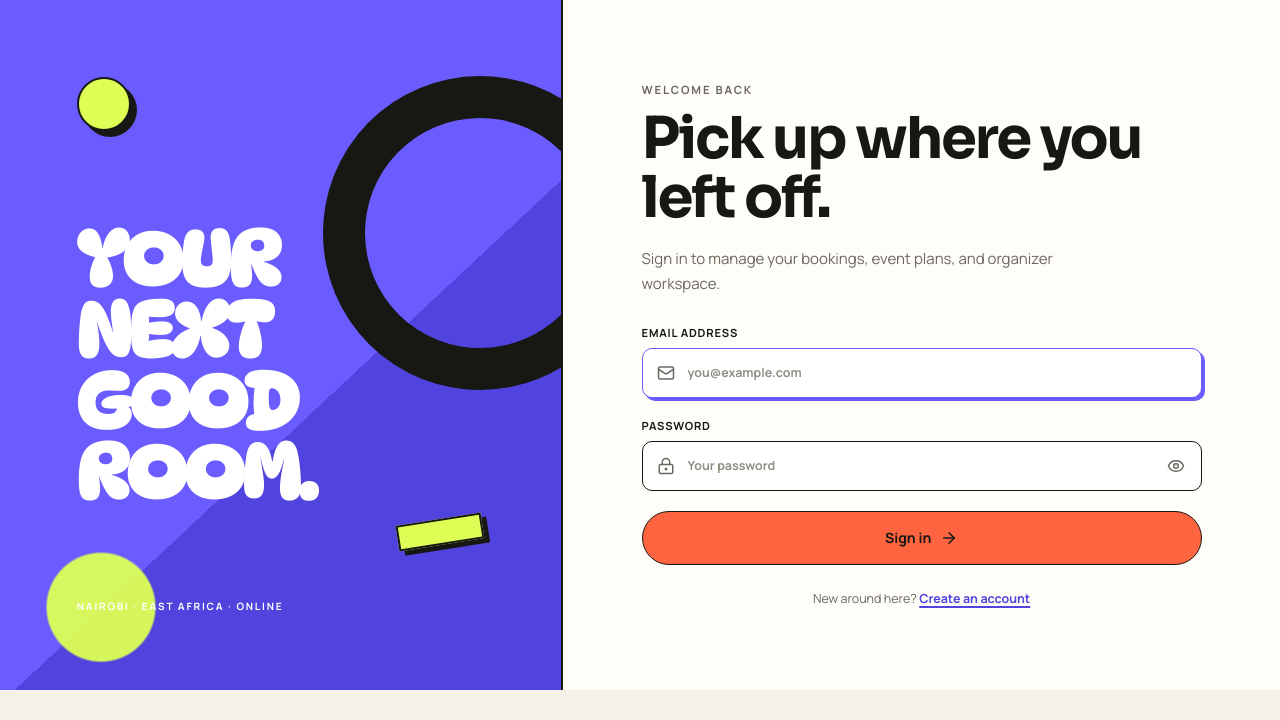
Test case: AuthForm › surfaces an authentication failure and lets the user reveal their password
The width and height of the screenshot is (1280, 720).
Type "amina@example.com" into the field labelled "Email address" at (922, 373), box [642,348,1202,398]
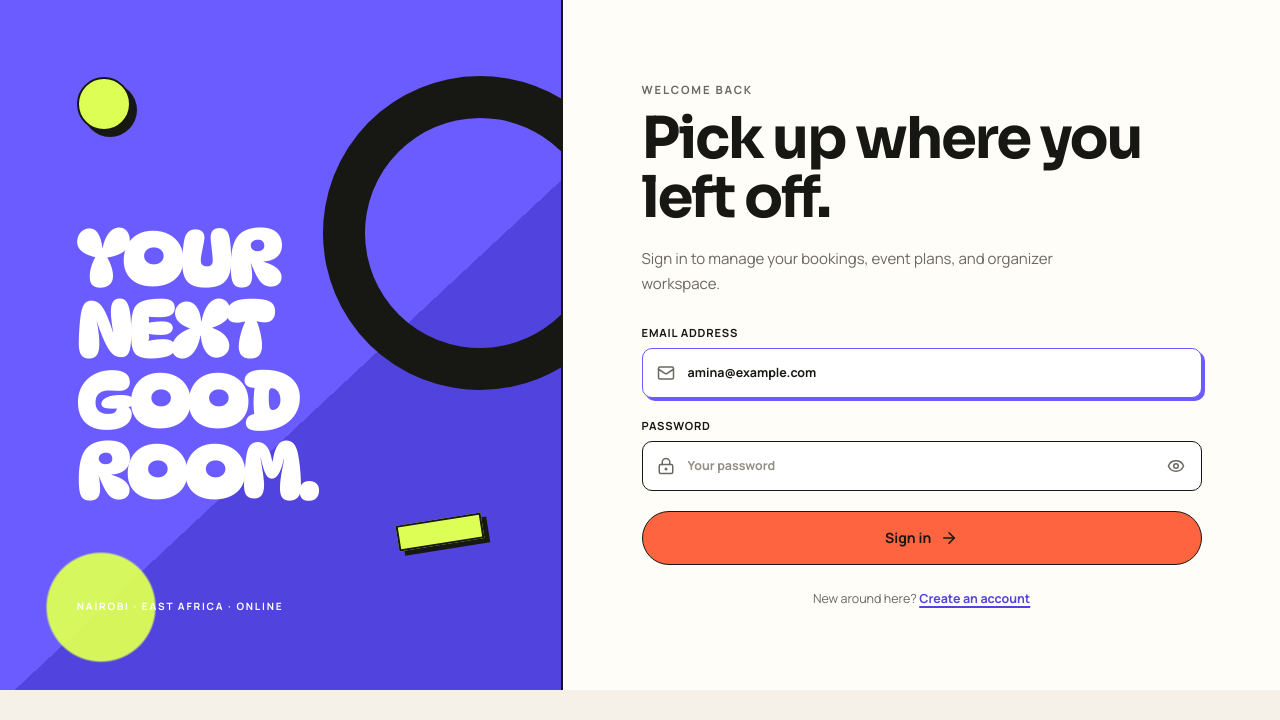
Type "StrongPass123" into the password field labelled "Password" at (922, 466), box [642,441,1202,491]
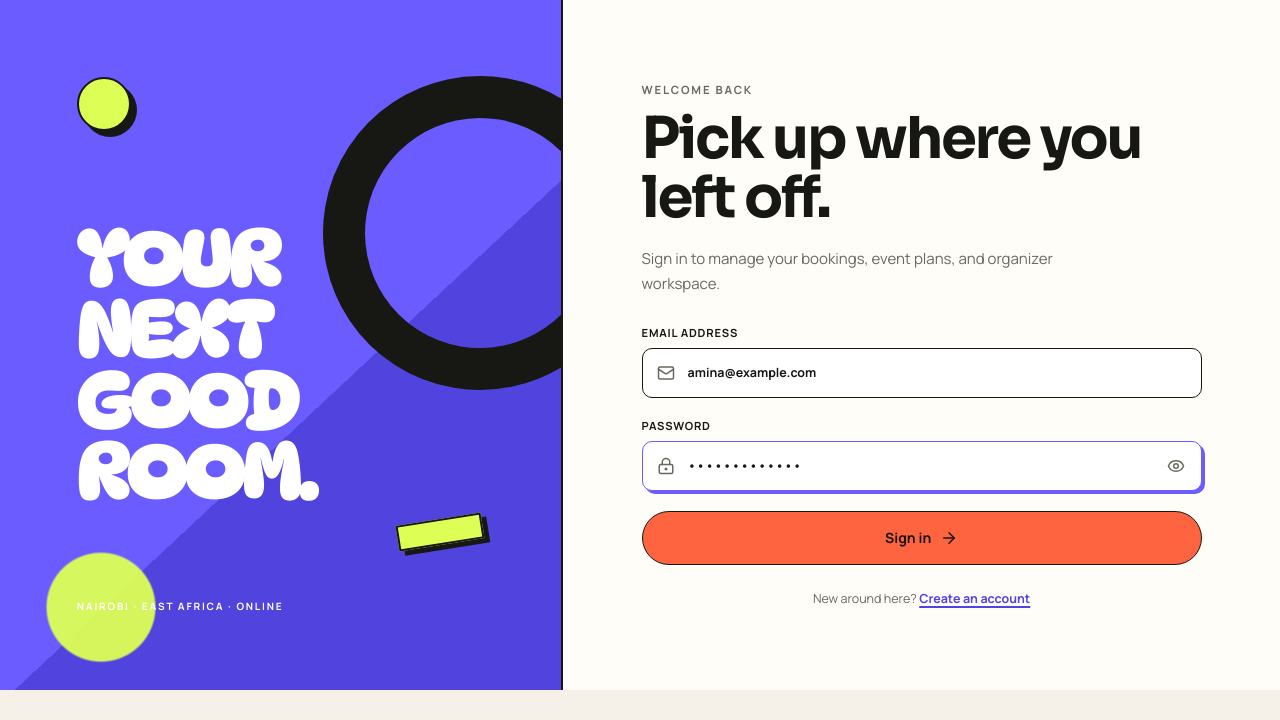
Click the button named "show password" at (1176, 466), box [1157,447,1195,485]
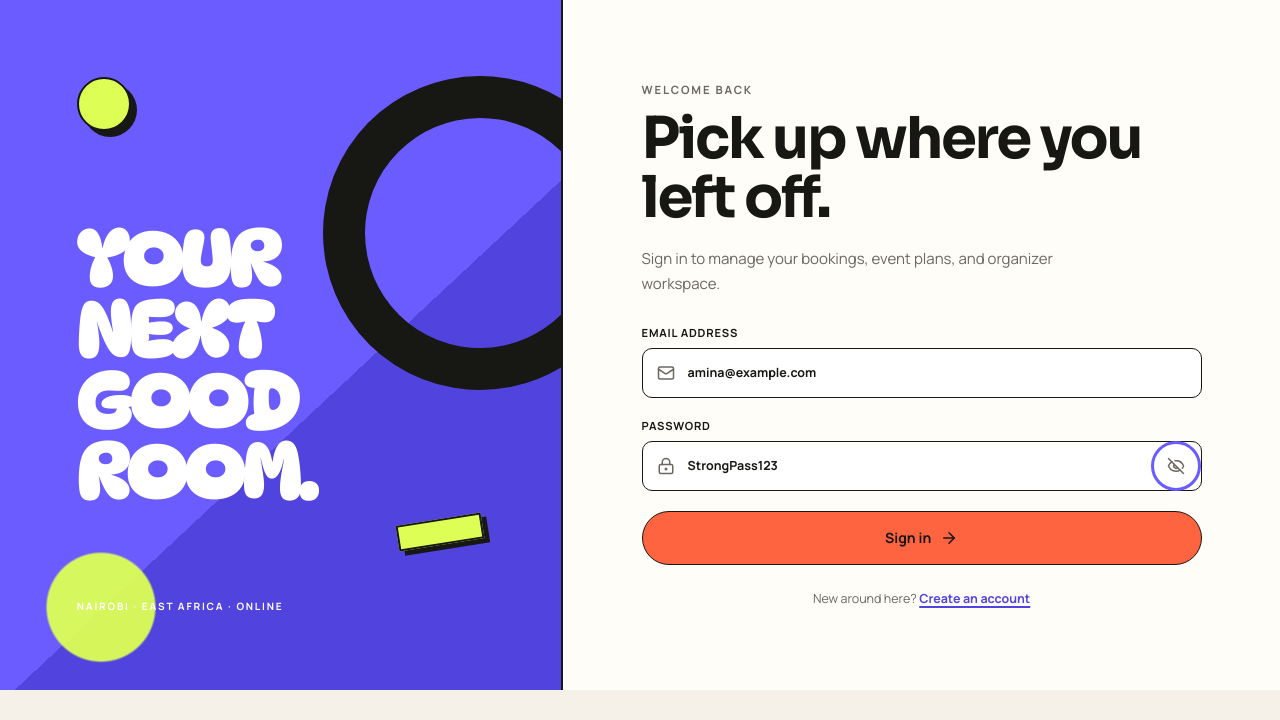
Check: the field labelled "Password" shows its text, box [642,441,1202,491]
Click the button "Sign in" at (922, 538), box [642,511,1202,565]
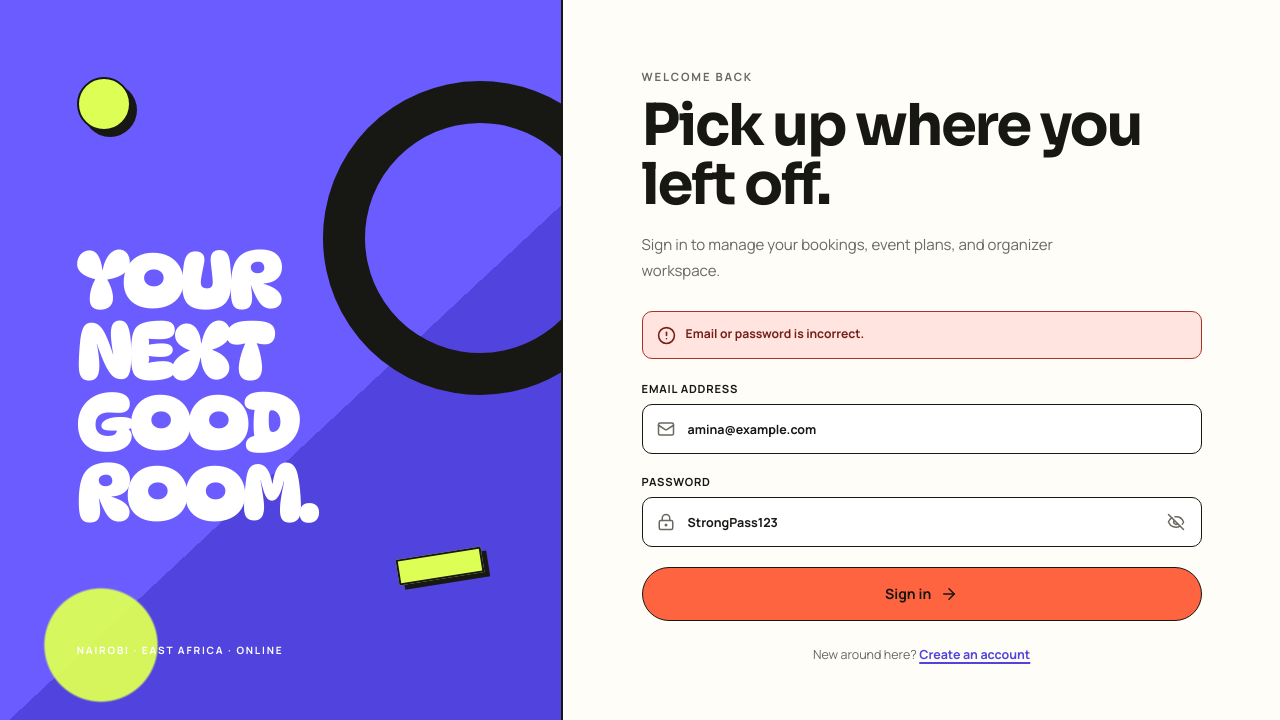
Check: the text "Email or password is incorrect." is shown, box [686,325,864,344]
